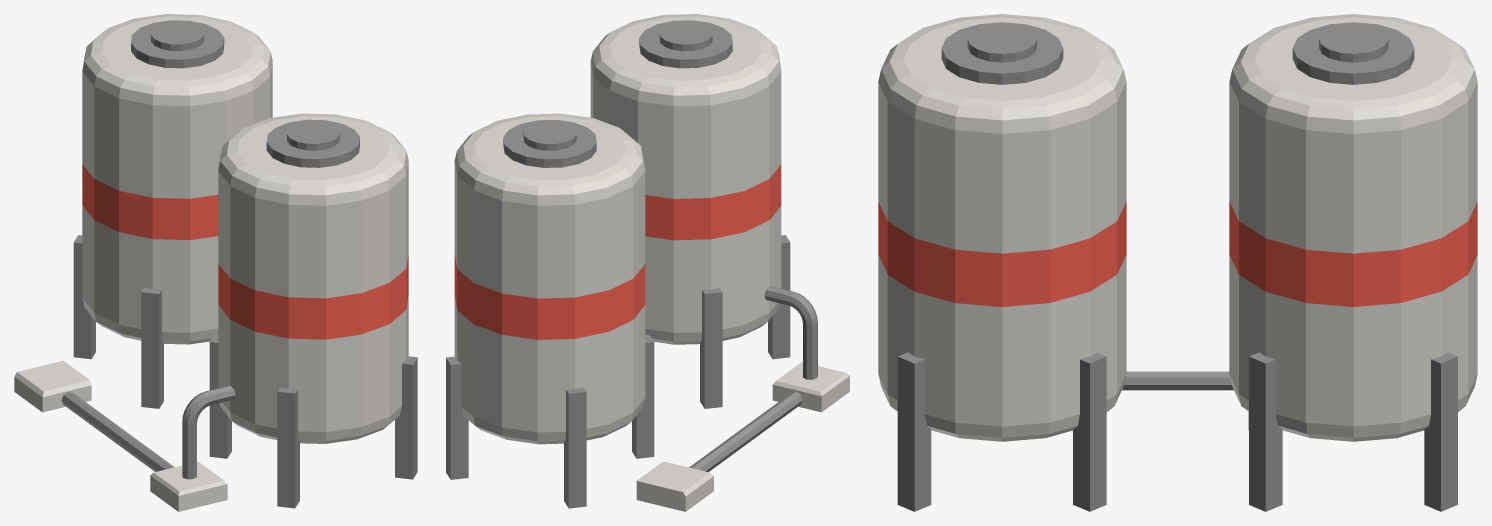
Rendered from 06 Filter_tank.FBX.
3 renders of one model, left to right at view 1: azimuth 30°, elevation 25°; view 2: azimuth 150°, elevation 25°; view 3: azimuth 270°, elevation 25°, orthographic. The views are drawn at different scales.
Visible parts, largest first — view 1: Cylinder001; view 2: Cylinder001; view 3: Cylinder001.
Part boxes in pixels (x1=…): Cylinder001: x1=14, y1=14, x2=417, y2=511; Cylinder001: x1=446, y1=14, x2=849, y2=511; Cylinder001: x1=878, y1=14, x2=1477, y2=511.
Size of the model in its own units: 1397 by 1957 by 2415.
